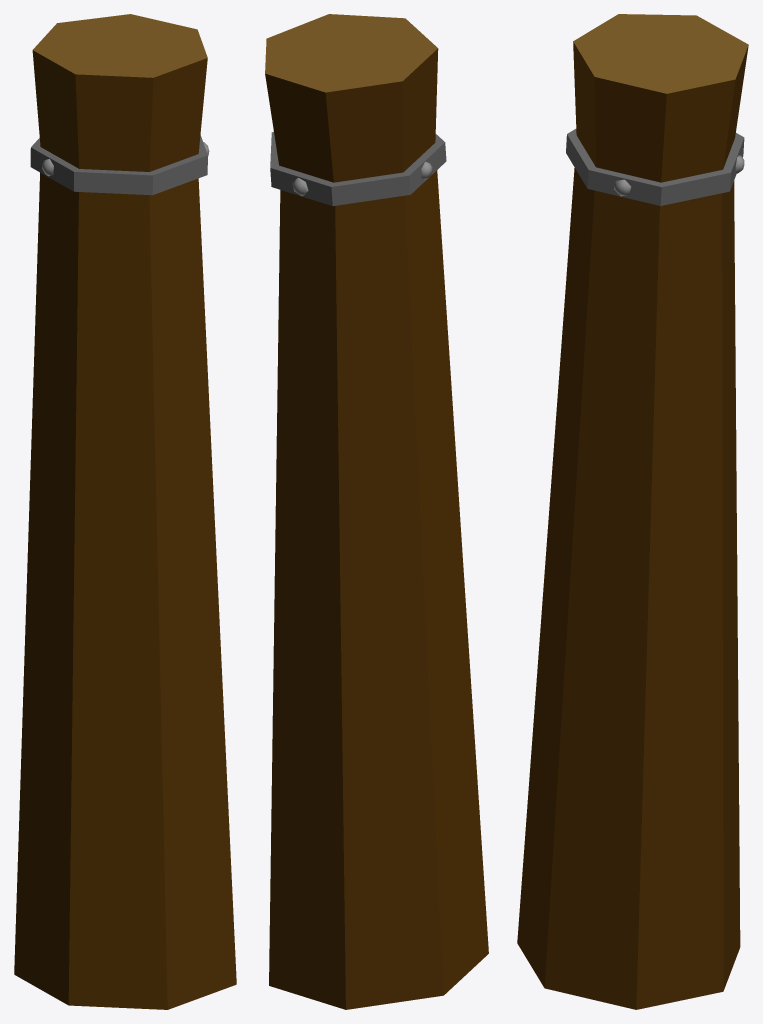
Rendered from Post (1).fbx.
The picture shows the model from 3 angles, left to right: view 1: azimuth 30°, elevation 25°; view 2: azimuth 150°, elevation 25°; view 3: azimuth 270°, elevation 25°; orthographic projection.
Parts seen in each view (by area): view 1: polySurface6; view 2: polySurface6; view 3: polySurface6.
Part boxes in pixels (x1=…): polySurface6: x1=14, y1=14, x2=236, y2=1009; polySurface6: x1=265, y1=14, x2=488, y2=1009; polySurface6: x1=517, y1=14, x2=748, y2=1009.
Bounding box in the file's own units: 66.32 × 306 × 69.69.
